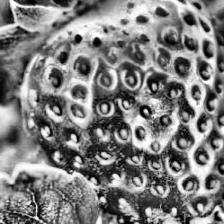Anthracnose Fruit Rot: (116, 73, 195, 152)
